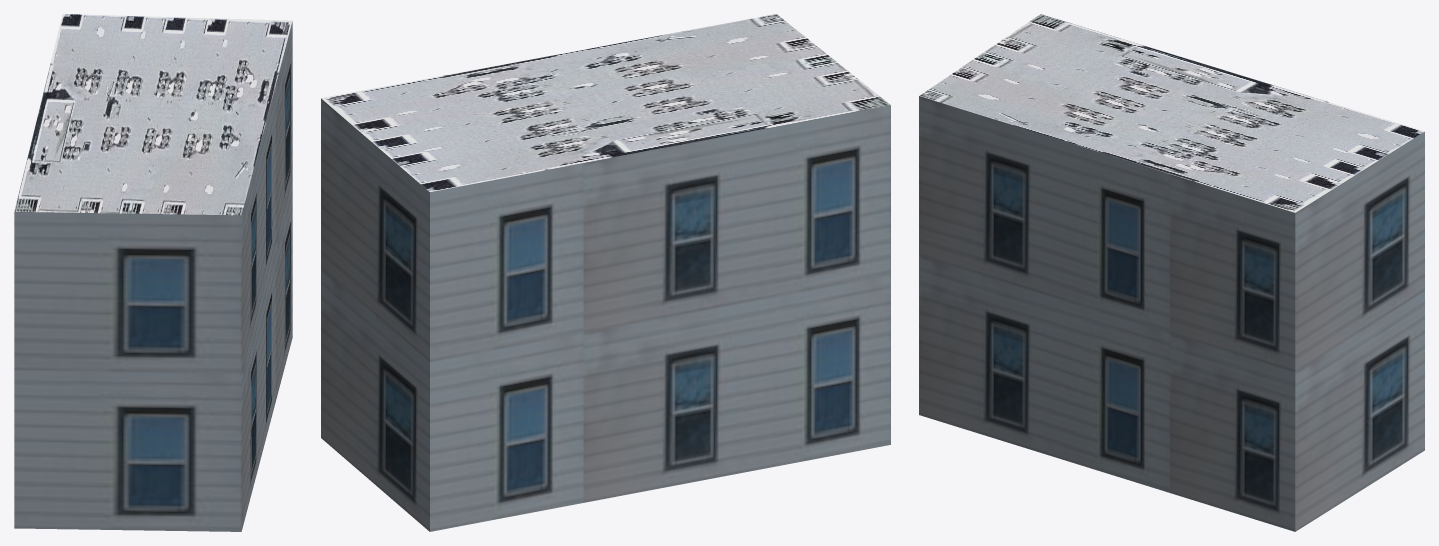
File: ResTex__4100.fbx
3 views of the same model, side by side, from view 1: azimuth 30°, elevation 25°; view 2: azimuth 150°, elevation 25°; view 3: azimuth 270°, elevation 25° (orthographic). The views are drawn at different scales.
Visible parts, largest first — view 1: CityEngineMaterial_18_m, CityEngineMaterial_4_m; view 2: CityEngineMaterial_18_m, CityEngineMaterial_4_m; view 3: CityEngineMaterial_18_m, CityEngineMaterial_4_m.
Boxes of the visible parts, box(x1,y1,x2,y2) form: CityEngineMaterial_18_m: box(14, 22, 292, 531); CityEngineMaterial_4_m: box(14, 14, 292, 215); CityEngineMaterial_18_m: box(321, 98, 890, 531); CityEngineMaterial_4_m: box(321, 14, 890, 191); CityEngineMaterial_18_m: box(919, 96, 1424, 531); CityEngineMaterial_4_m: box(919, 14, 1424, 212).
Bounding box in the file's own units: 8.03 × 6 × 8.62.
2 materials, 2 textured.
